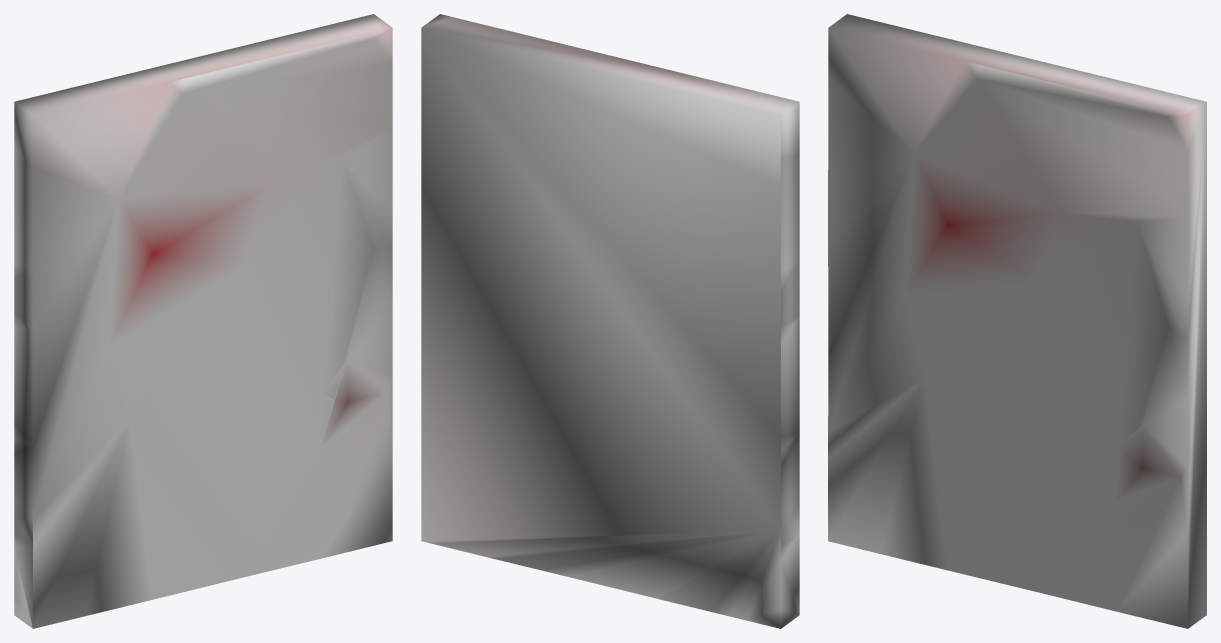
The model's file is SM_FA_Factory_W220_H300.fbx.
3 renders of one model, left to right at view 1: azimuth 30°, elevation 25°; view 2: azimuth 150°, elevation 25°; view 3: azimuth 330°, elevation 25°, orthographic.
Visible parts, largest first — view 1: SM_FA_Factory_W220_H300; view 2: SM_FA_Factory_W220_H300; view 3: SM_FA_Factory_W220_H300.
Part boxes in pixels (x1,y1,x2,y2): SM_FA_Factory_W220_H300: (14,14,392,628); SM_FA_Factory_W220_H300: (421,14,799,628); SM_FA_Factory_W220_H300: (828,14,1206,628).
Bounding box in the file's own units: 220 × 20 × 300.
